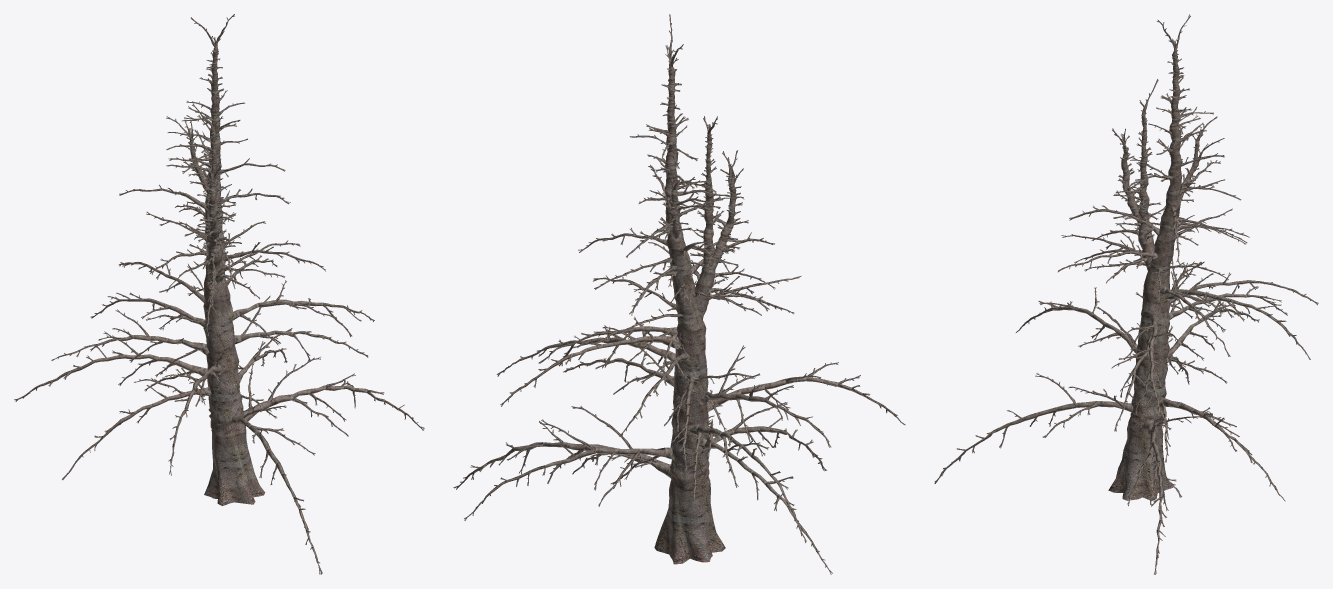
File: fir_2.obj
3 views of the same model, side by side, from view 1: azimuth 30°, elevation 25°; view 2: azimuth 150°, elevation 25°; view 3: azimuth 270°, elevation 25° (orthographic). The views are drawn at different scales.
Parts seen in each view (by area): view 1: fir_2; view 2: fir_2; view 3: fir_2.
Boxes of the visible parts, left/top/right/bottom form: fir_2: left=14, top=14, right=424, bottom=574; fir_2: left=453, top=14, right=905, bottom=574; fir_2: left=934, top=14, right=1318, bottom=574.
Bounding box in the file's own units: 6.82 × 8.6 × 6.29.
1 material, 1 textured.
